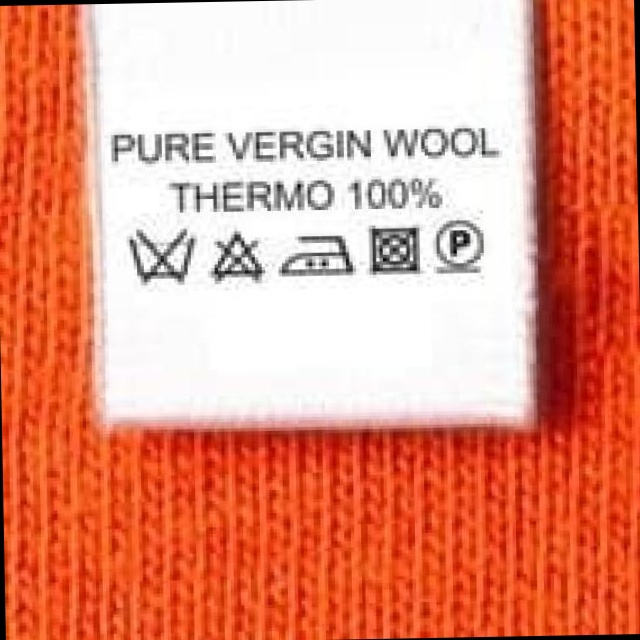DN_bleach: (211, 227, 267, 286)
DN_tumble_dry: (369, 221, 426, 279)
DN_wash: (123, 225, 200, 290)
dry_clean_any_solvent_except_trichloroethylene: (432, 214, 488, 277)
iron_medium: (277, 228, 355, 284)
